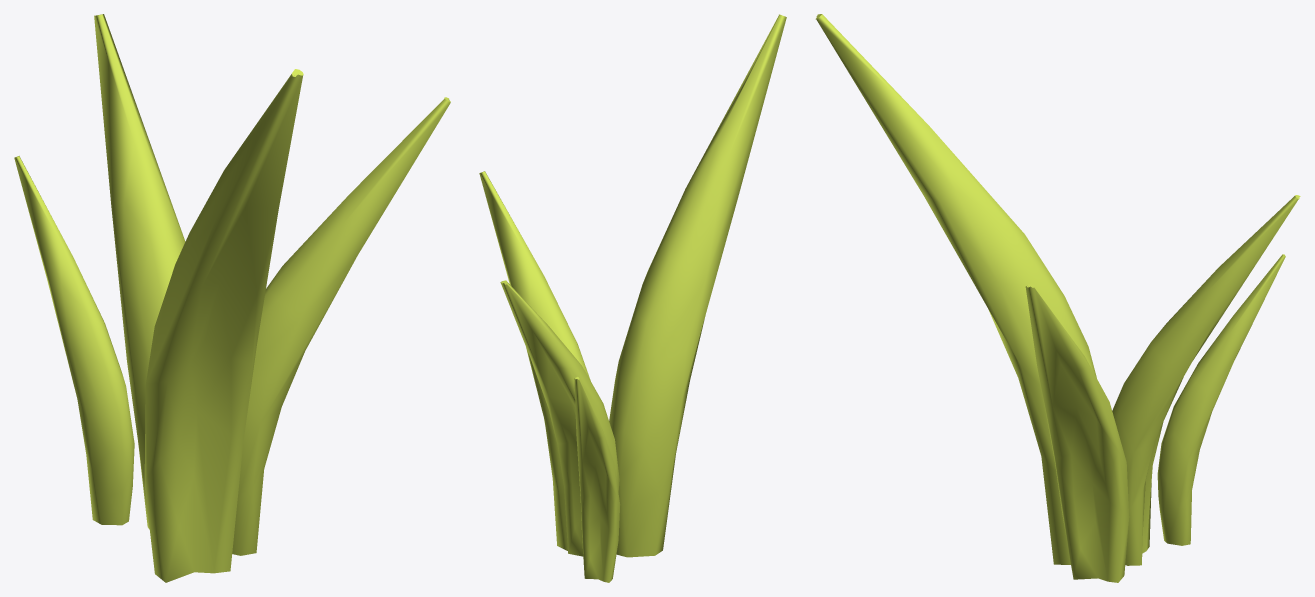
The model's file is plant1.fbx.
The picture shows the model from 3 angles, left to right: view 1: azimuth 30°, elevation 25°; view 2: azimuth 150°, elevation 25°; view 3: azimuth 270°, elevation 25°; orthographic projection. The views are drawn at different scales.
Visible parts, largest first — view 1: plant.007; view 2: plant.007; view 3: plant.007.
Part boxes in pixels (left/top/right/bottom): plant.007: left=14, top=14, right=450, bottom=582; plant.007: left=479, top=14, right=786, bottom=582; plant.007: left=815, top=14, right=1300, bottom=582.
Size of the model in its own units: 92.27 by 189 by 159.
